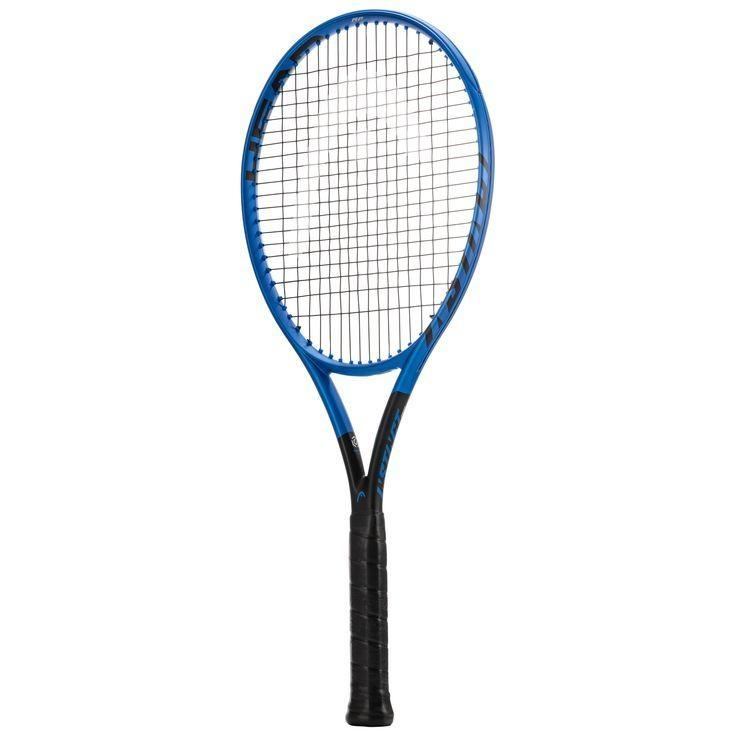Tennis-Racket: (247, 12, 488, 722)
